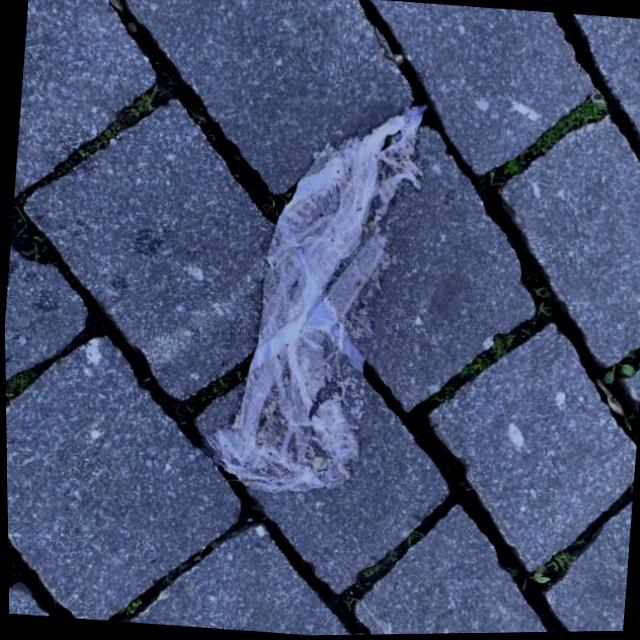Paper: (194, 87, 430, 505)
